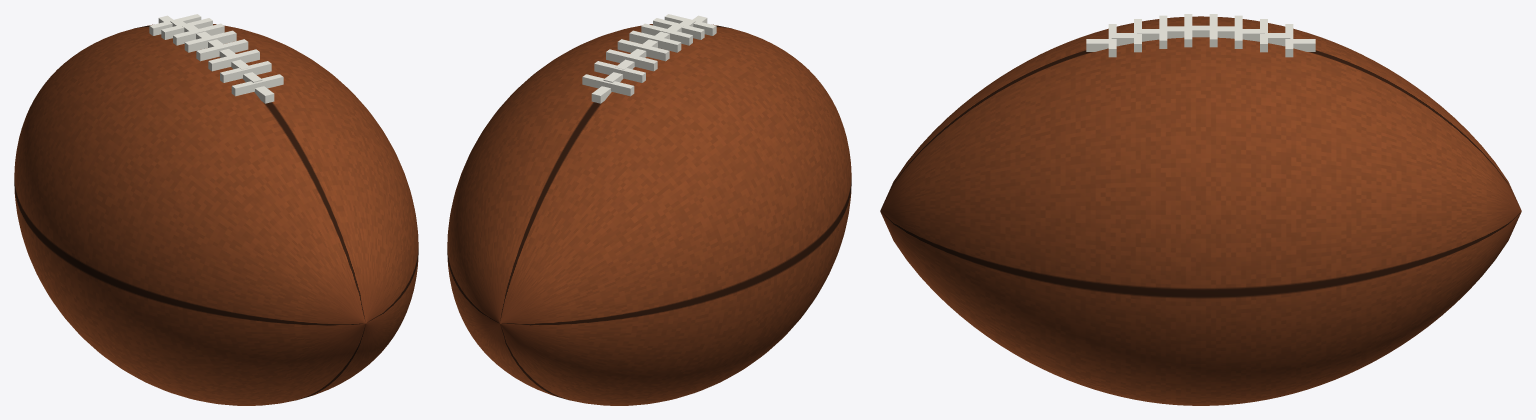
Rendered from football.obj.
The picture shows the model from 3 angles, left to right: view 1: azimuth 30°, elevation 25°; view 2: azimuth 150°, elevation 25°; view 3: azimuth 270°, elevation 25°; orthographic projection. The views are drawn at different scales.
Parts seen in each view (by area): view 1: leather, laces; view 2: leather, laces; view 3: leather, laces.
Boxes of the visible parts, x1,y1,x2,y2 form: leather: (14,24,418,405); laces: (149,14,283,103); leather: (447,24,851,405); laces: (582,14,716,103); leather: (880,16,1521,405); laces: (1086,14,1315,57).
Size of the model in its own units: 0.17 by 0.1739 by 0.28.
2 materials, 1 textured.
